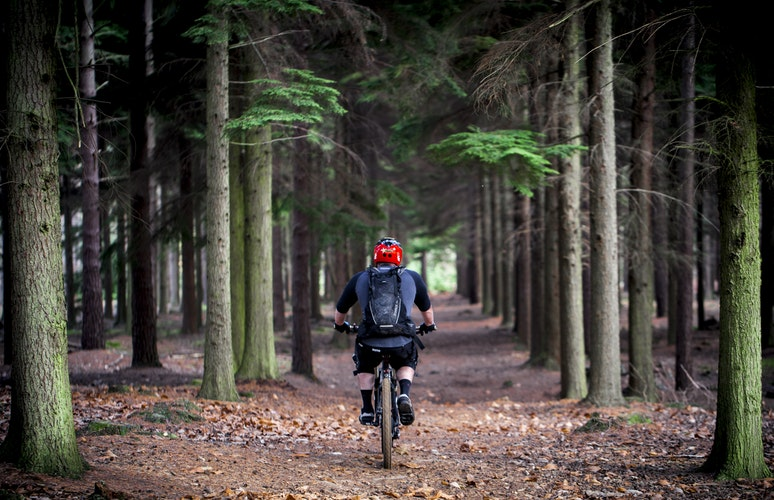helmet: (370, 233, 413, 272)
